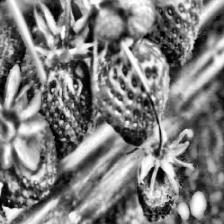Gray Mold: (136, 125, 193, 224)
